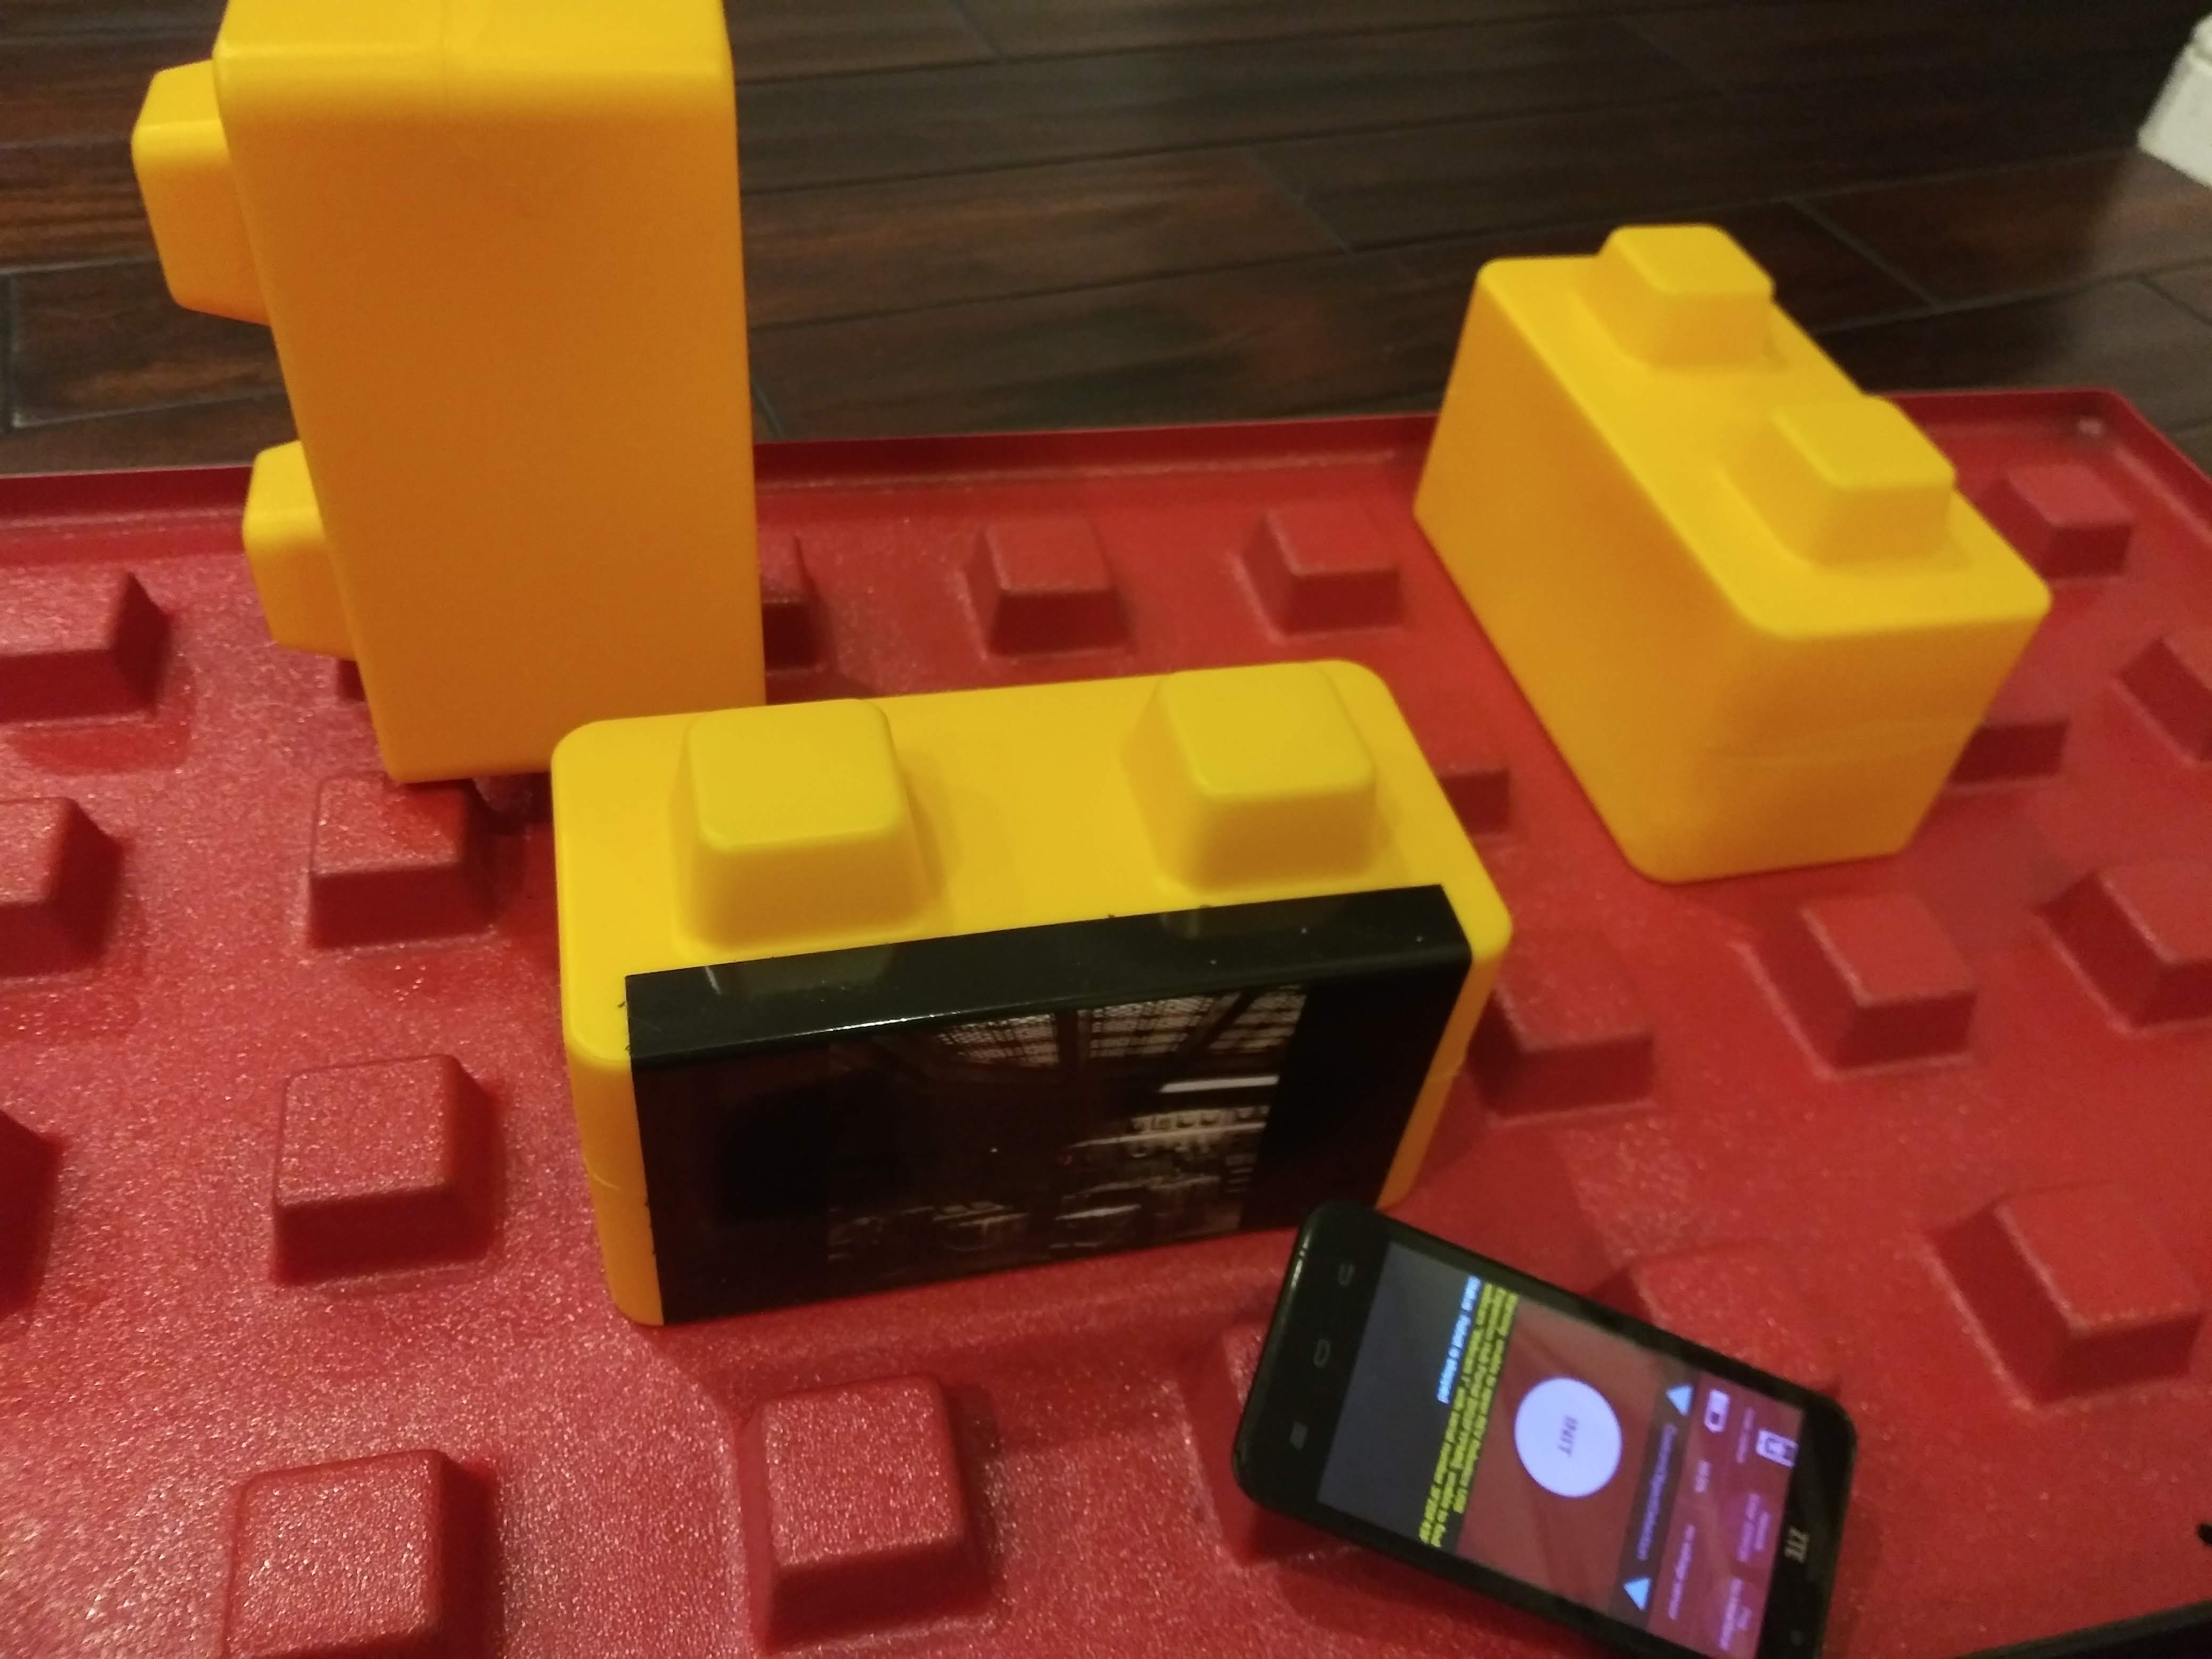skystone: (547, 739, 1531, 1269)
stone: (176, 35, 794, 706), (1519, 235, 2057, 840)
